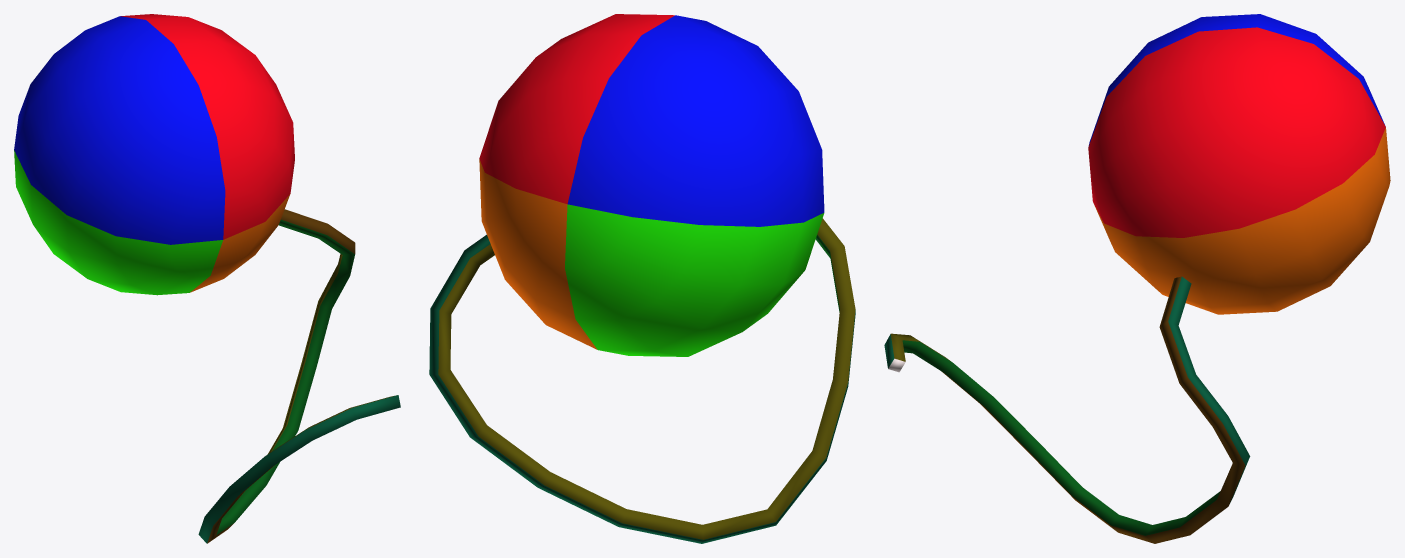
Rendered from yarn_ball.glb.
3 views of the same model, side by side, from view 1: azimuth 30°, elevation 25°; view 2: azimuth 150°, elevation 25°; view 3: azimuth 270°, elevation 25° (orthographic). The views are drawn at different scales.
Visible parts, largest first — view 1: yarn_ball; view 2: yarn_ball; view 3: yarn_ball.
Part boxes in pixels (x1,y1,x2,y2): yarn_ball: (14, 14, 400, 543); yarn_ball: (429, 14, 855, 543); yarn_ball: (884, 14, 1390, 543).
Bounding box in the file's own units: 2.52 × 3.6 × 3.32.
1 material, 1 textured.
